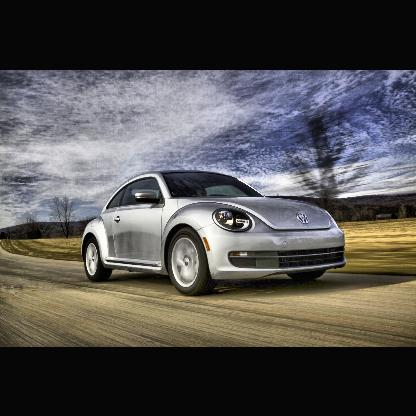Volkswagen Beetle Hatchback 2012: (81, 171, 348, 296)
